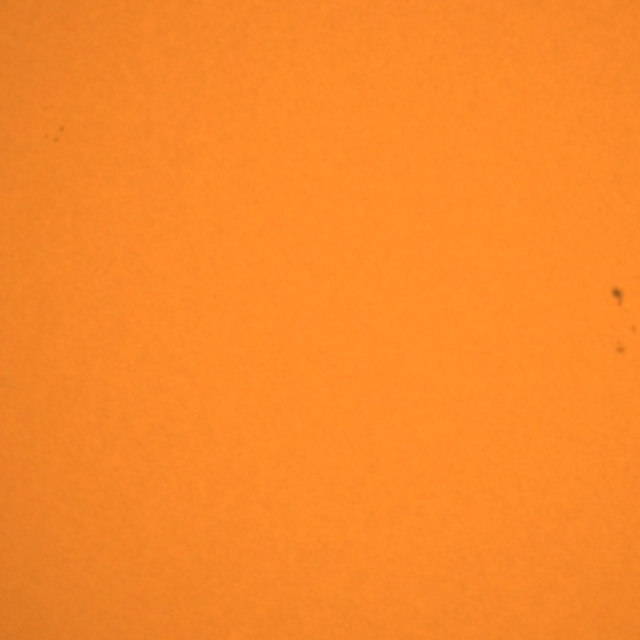sunspot: (612, 324, 640, 357), (43, 123, 67, 145), (609, 284, 626, 310), (613, 340, 628, 358), (629, 324, 640, 336)
